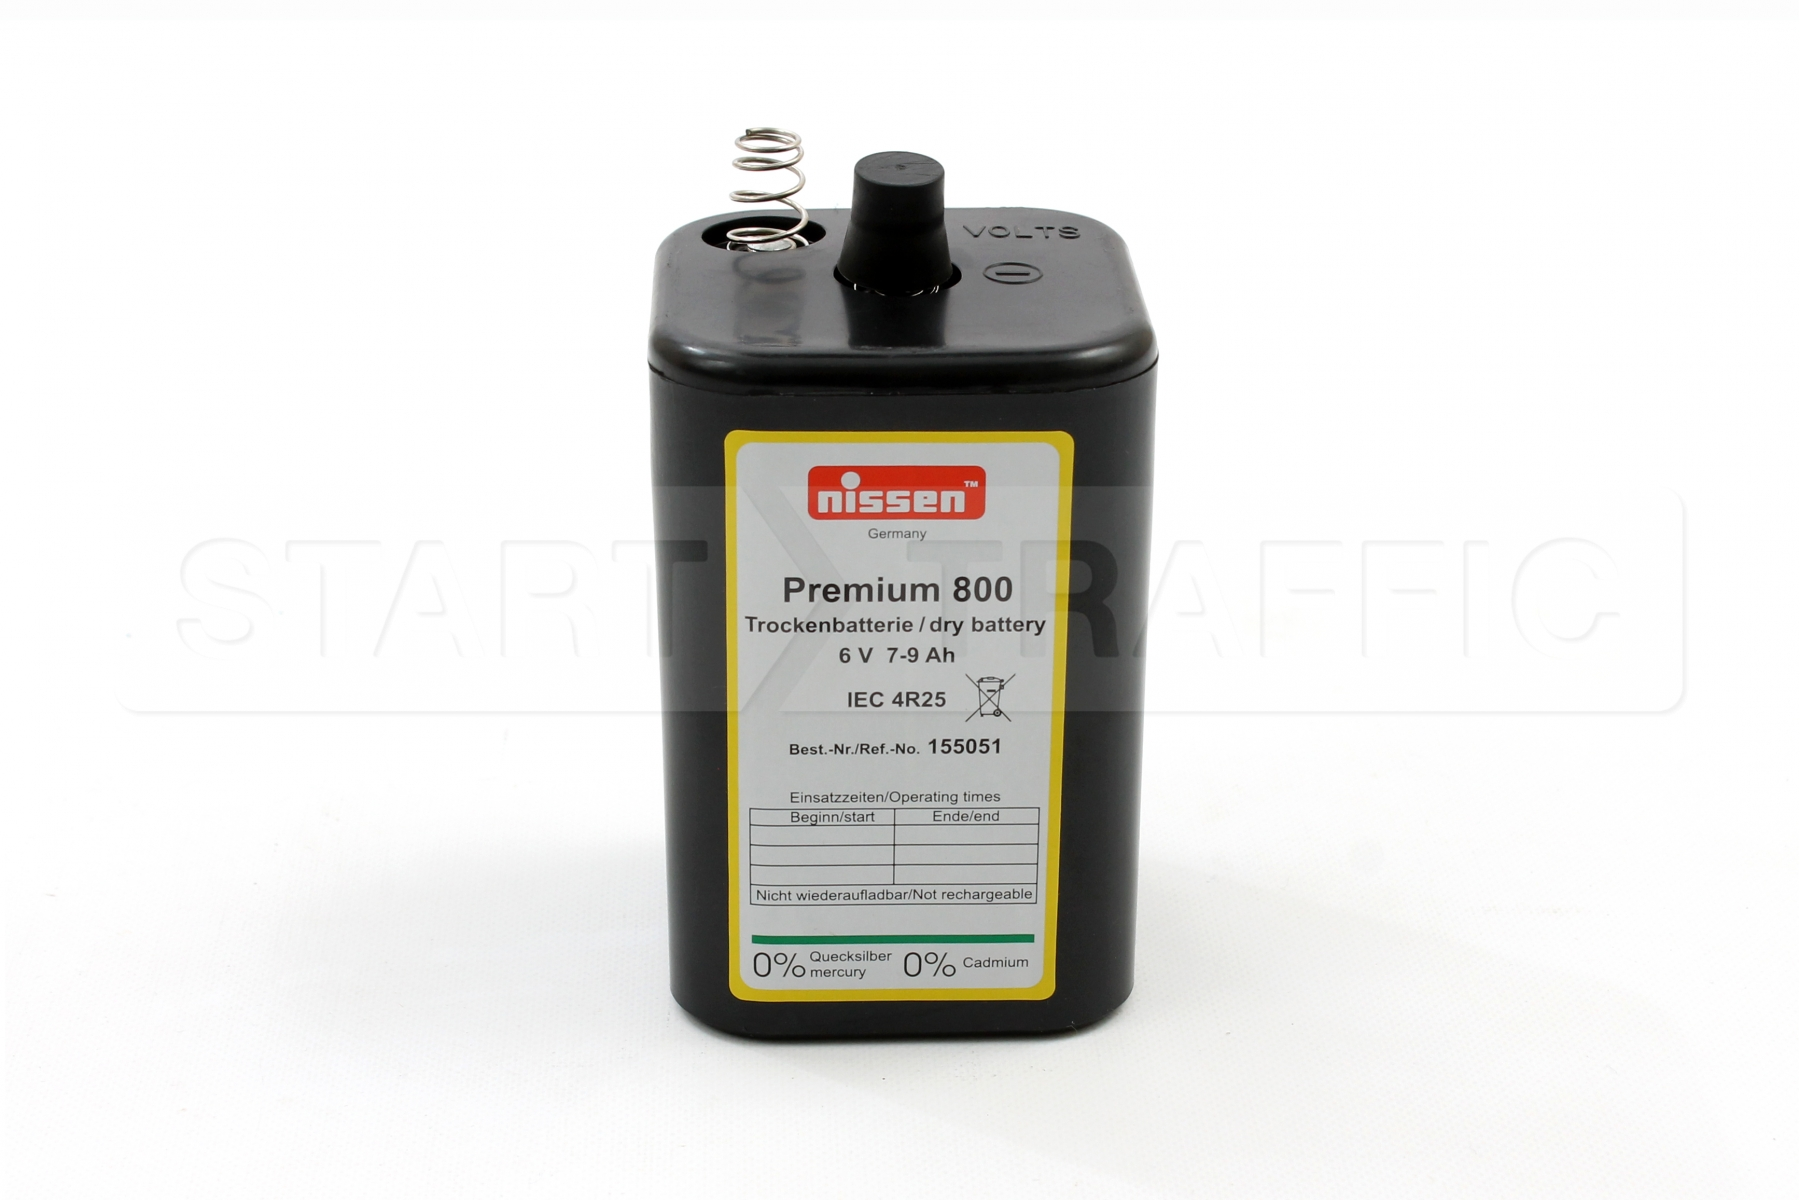6V: (627, 111, 1196, 1069)
